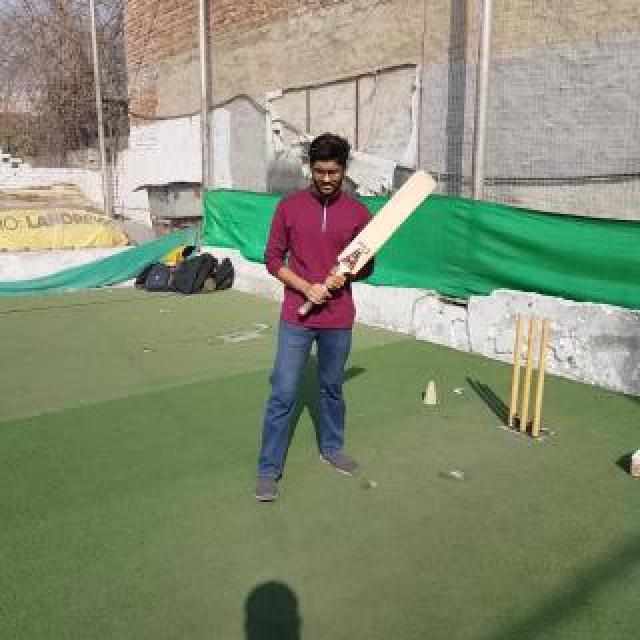bat: (300, 170, 436, 316)
